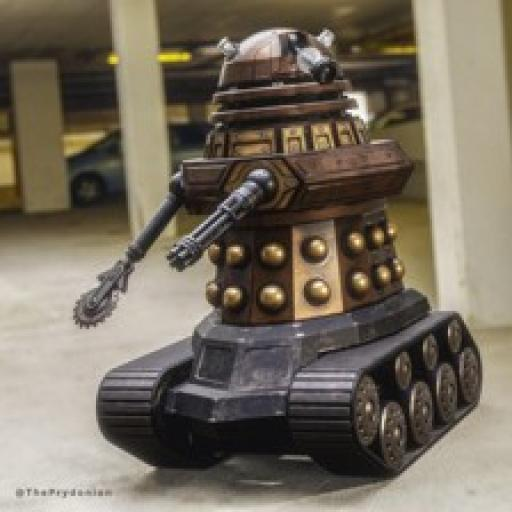dalek: (65, 27, 484, 485)
